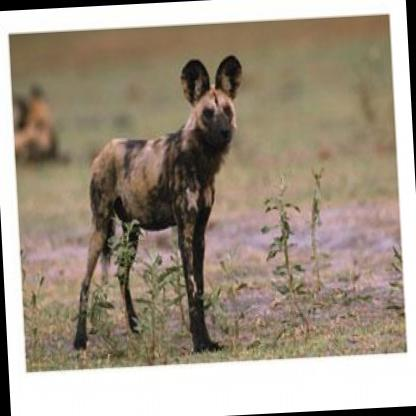African_hunting_dog: (57, 52, 256, 359)
